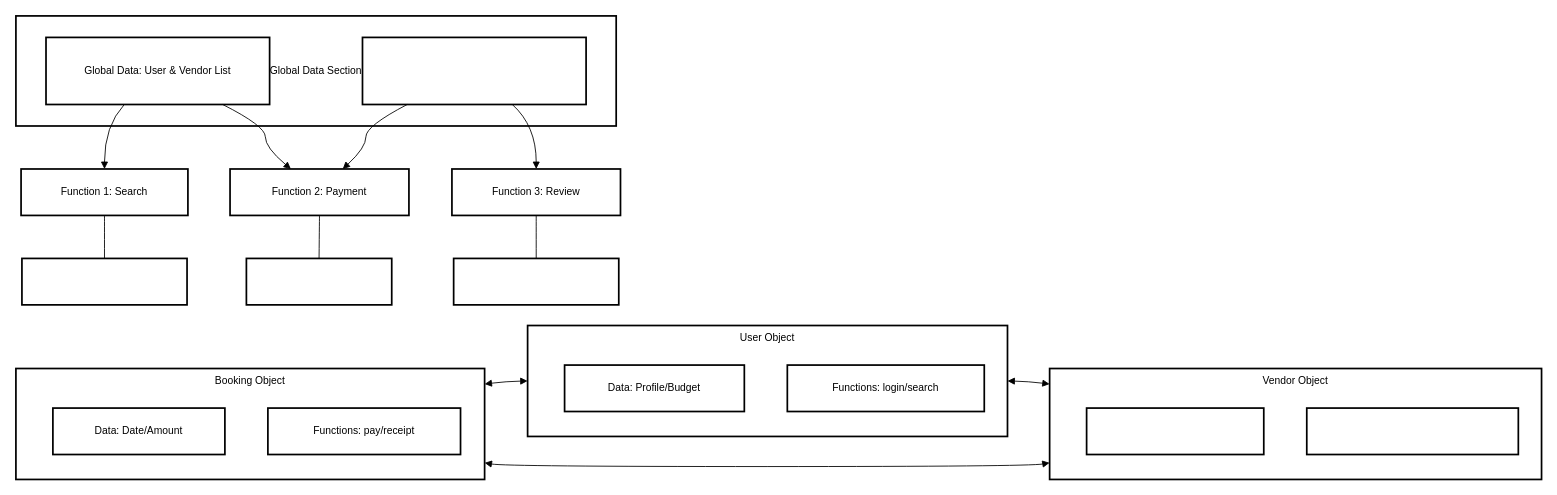
Some shapes in this 1557 by 495 pixel diagram are drawn without their labels. The shapes that lost their labels are listed below. From the top down, each one's centre as x and y in pixels, then its label:
the point at 474,70: Global Data: Booking Records
the point at 104,281: Local Data: Filters
the point at 318,281: Local Data: Bill
the point at 535,281: Local Data: Rating
the point at 1174,431: Data: Services/Price
the point at 1412,431: Functions: accept/update
